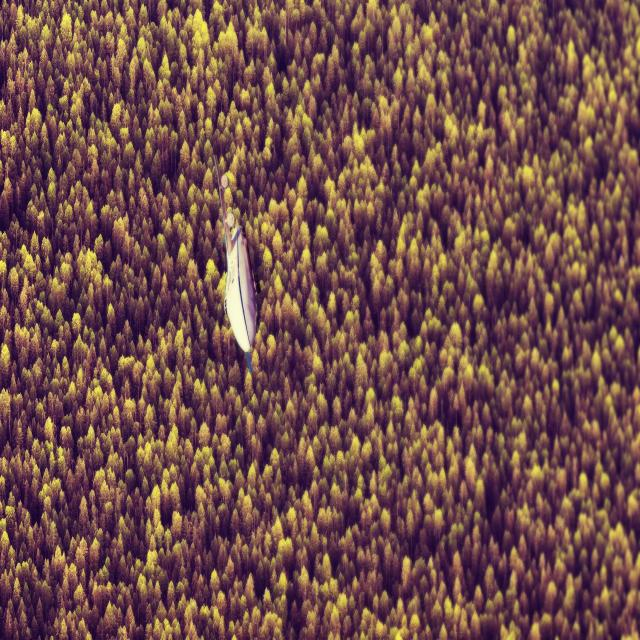airplane: (211, 152, 259, 375)
